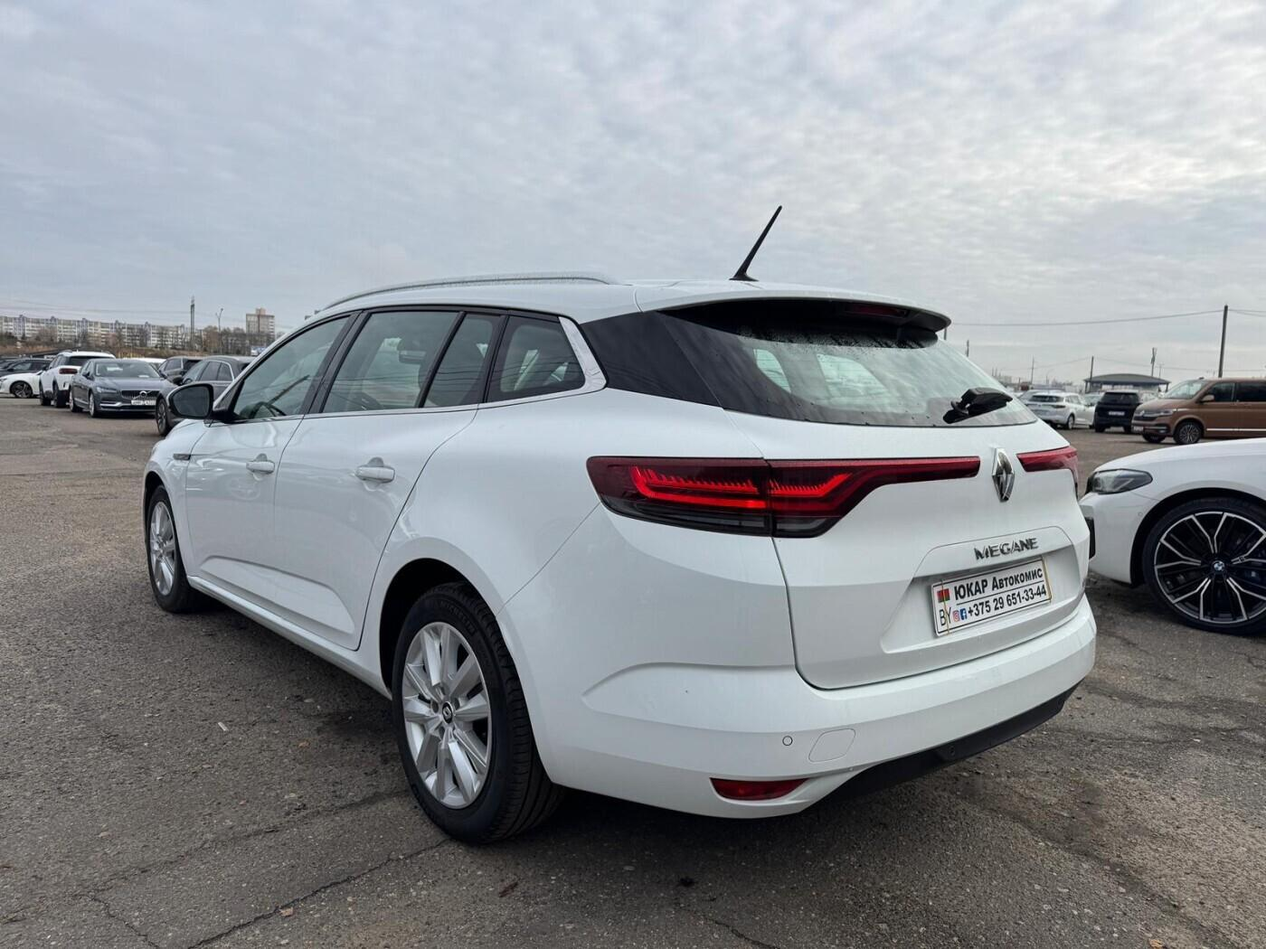Megane_2020: (136, 274, 1101, 841)
